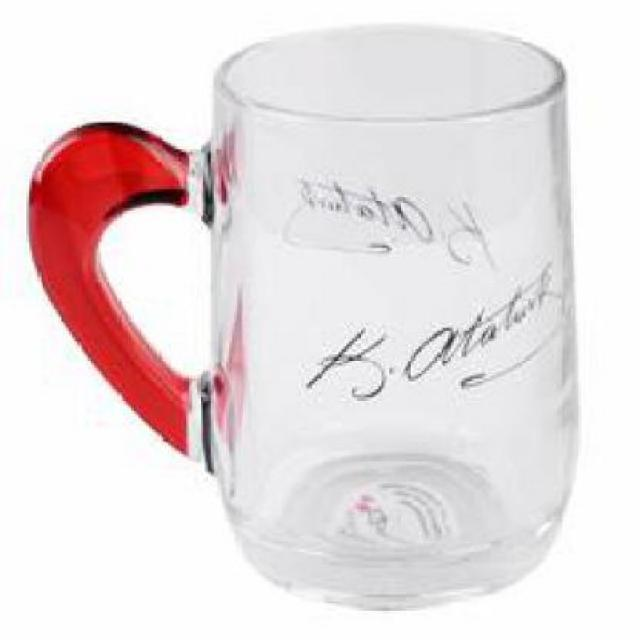taza: (18, 18, 590, 614)
